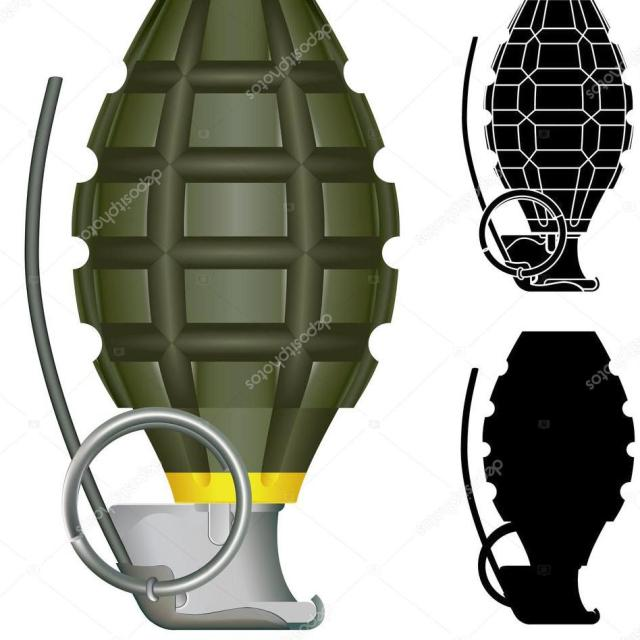grenade: (23, 2, 401, 632), (460, 328, 637, 625), (460, 2, 634, 297)
